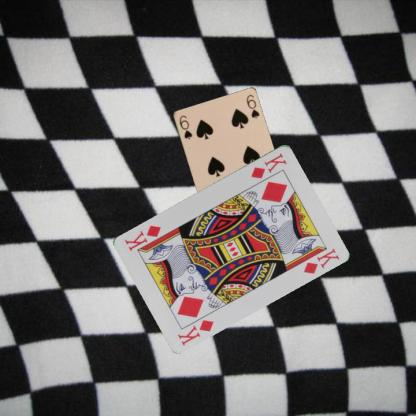6s: (176, 113, 193, 140)
Kd: (248, 150, 288, 180), (175, 316, 215, 346)
